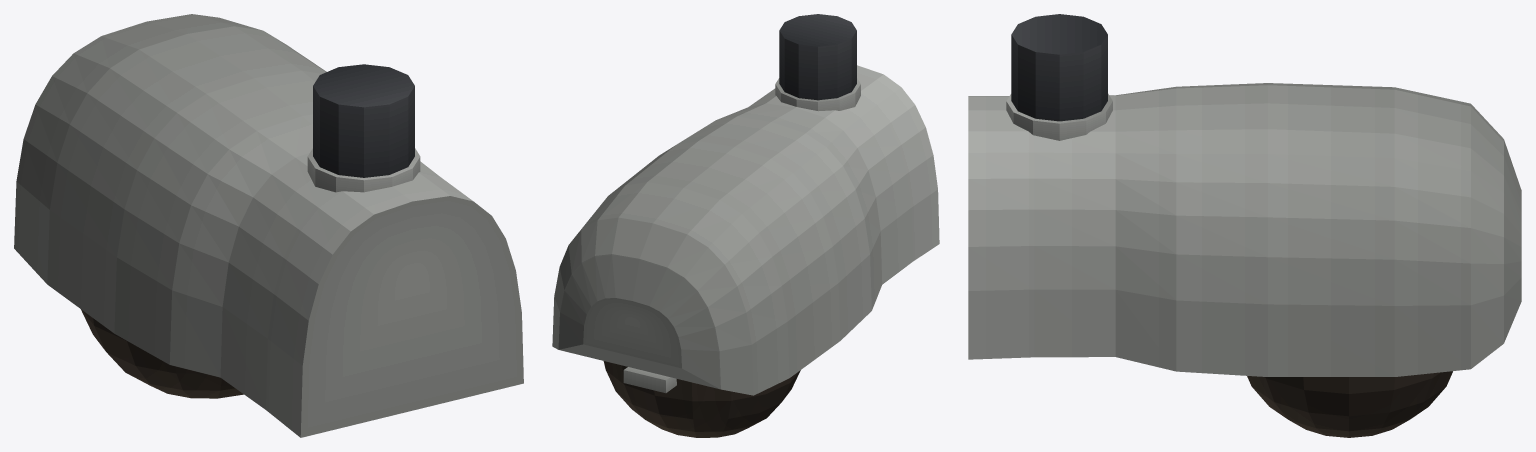
File: streetlight_ae115.obj
The picture shows the model from 3 angles, left to right: view 1: azimuth 30°, elevation 25°; view 2: azimuth 150°, elevation 25°; view 3: azimuth 270°, elevation 25°; orthographic projection. The views are drawn at different scales.
Visible parts, largest first — view 1: fixture; view 2: fixture; view 3: fixture.
Part boxes in pixels (x1,y1,x2,y2): fixture: [14, 14, 523, 437]; fixture: [552, 14, 939, 437]; fixture: [968, 14, 1521, 437].
Size of the model in its own units: 0.375 by 0.5312 by 0.6812.
